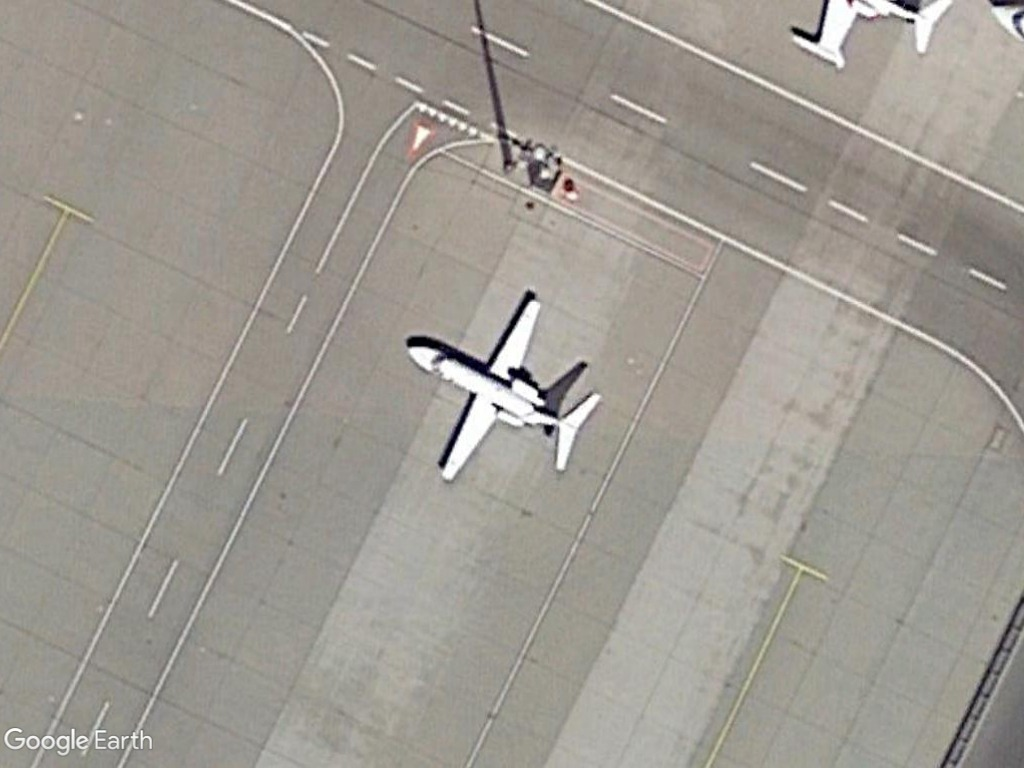chartered: (402, 295, 605, 482)
